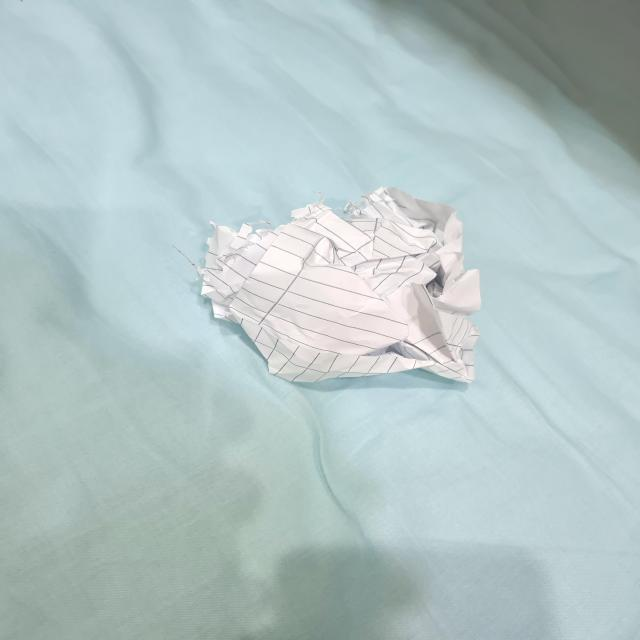Paper: (157, 126, 529, 432)
